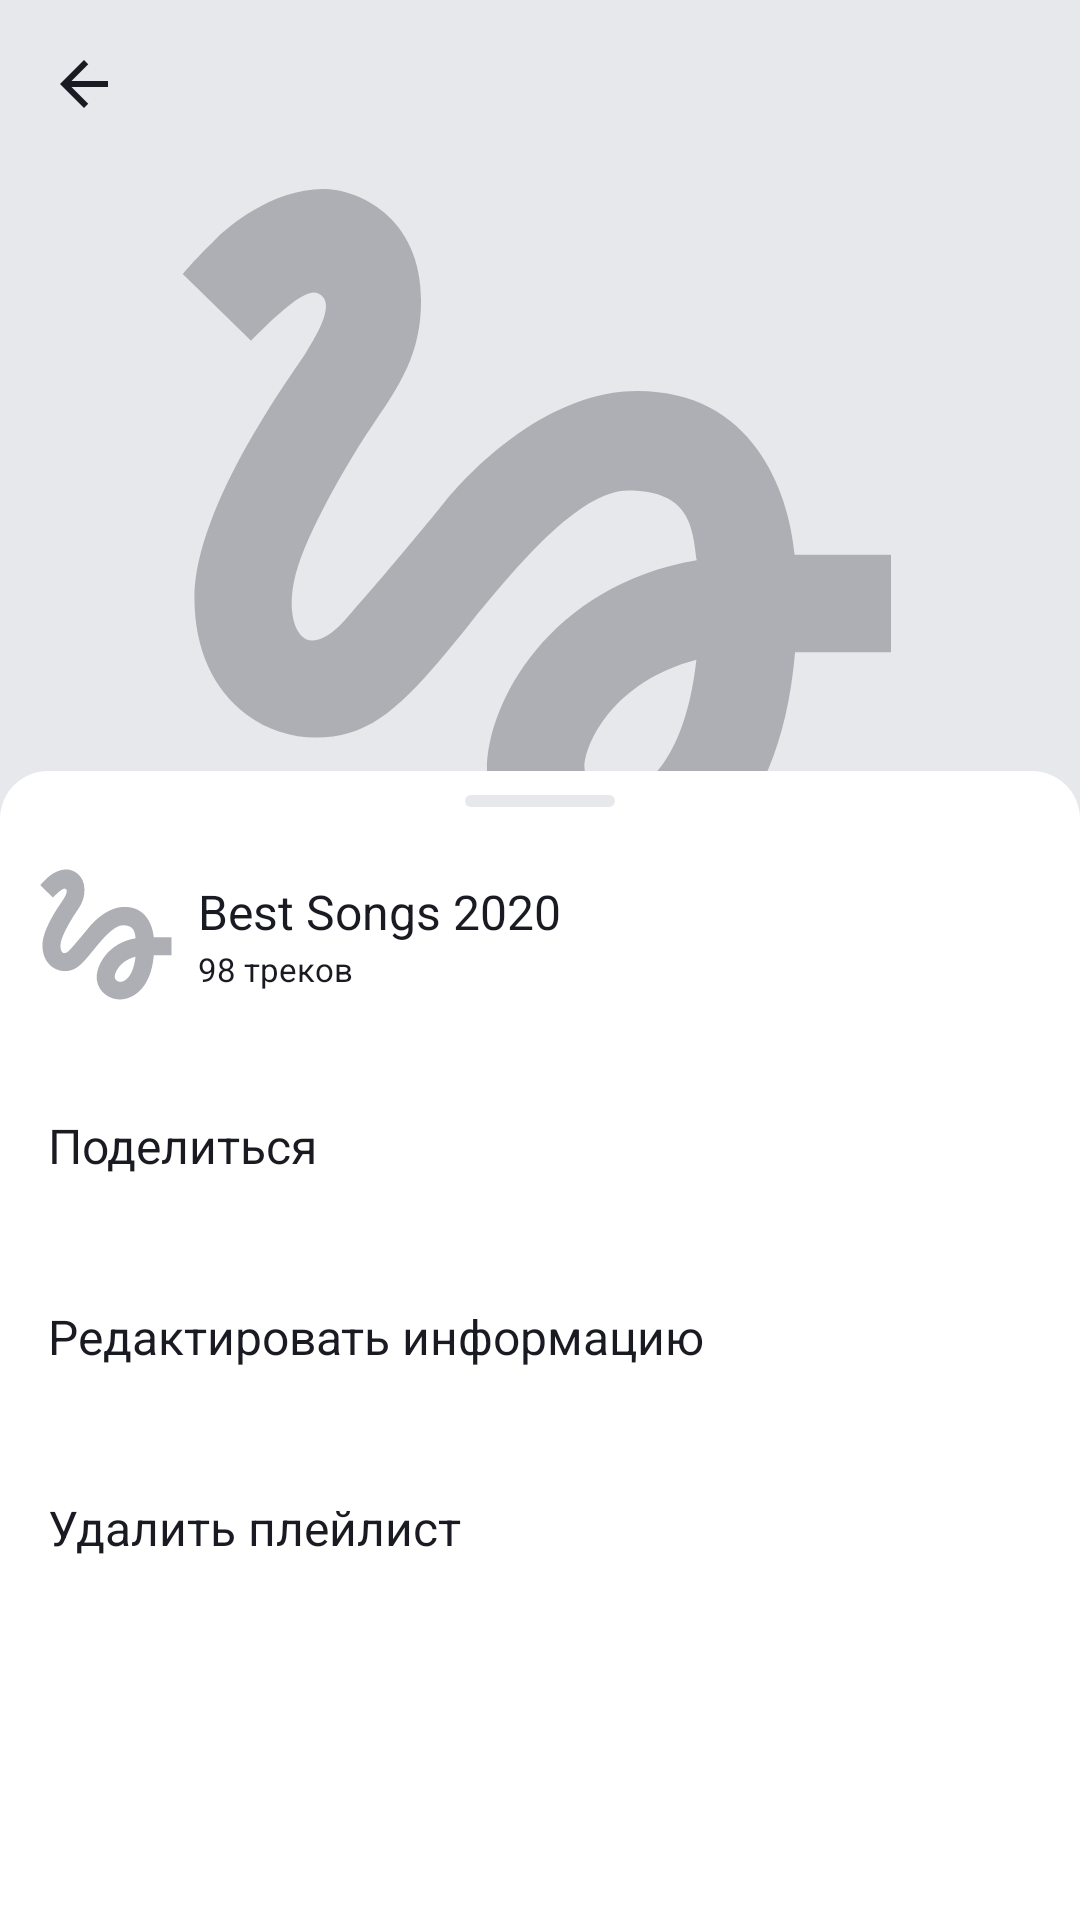

Named icons in this screenshot (1080×1920) and their bounding boxes, (x1, y1, x2, y2):
no album: (40, 869, 172, 1000)
